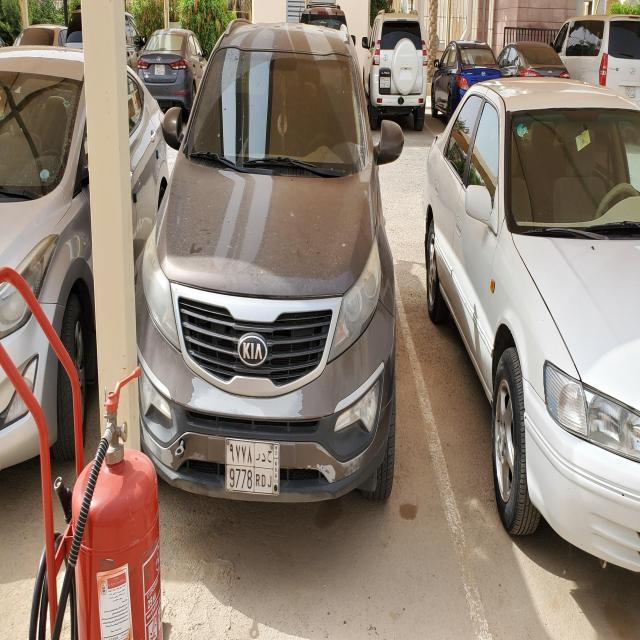license_plate: (224, 437, 280, 497), (624, 86, 636, 98), (380, 76, 390, 88), (155, 64, 165, 75)
